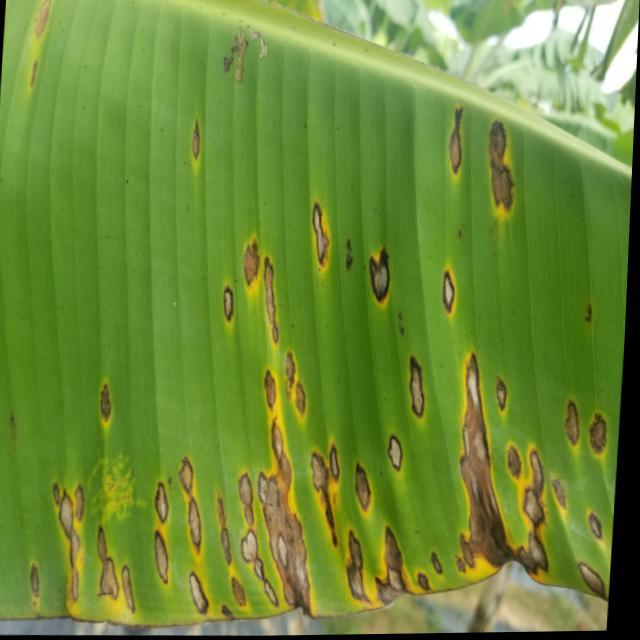Early_rust: (5, 0, 620, 621)
